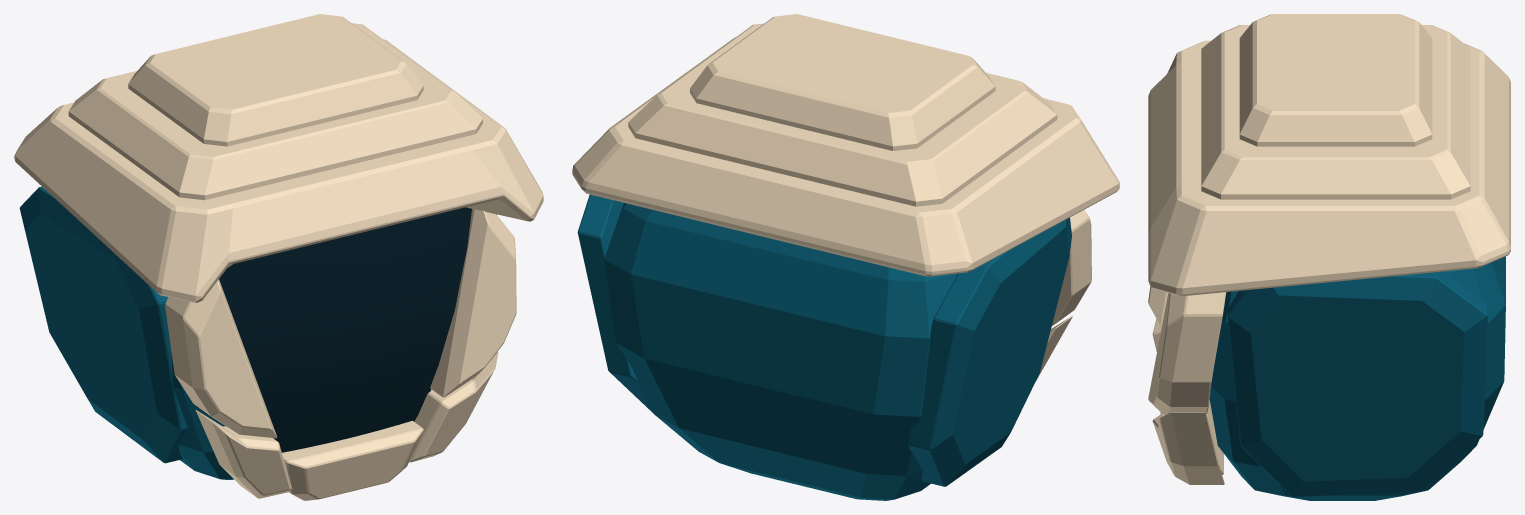
Rendered from copilot_architect_v01.glb.
3 views of the same model, side by side, from view 1: azimuth 30°, elevation 25°; view 2: azimuth 150°, elevation 25°; view 3: azimuth 270°, elevation 25° (orthographic). The views are drawn at different scales.
Parts seen in each view (by area): view 1: pavilion_body; view 2: pavilion_body; view 3: pavilion_body.
Part boxes in pixels (box(x1,y1,x2,y2)): pavilion_body: box(14, 14, 543, 500); pavilion_body: box(572, 14, 1119, 500); pavilion_body: box(1148, 14, 1510, 500).
Size of the model in its own units: 2.87 by 2.7 by 2.24.
1 material, 1 textured.
